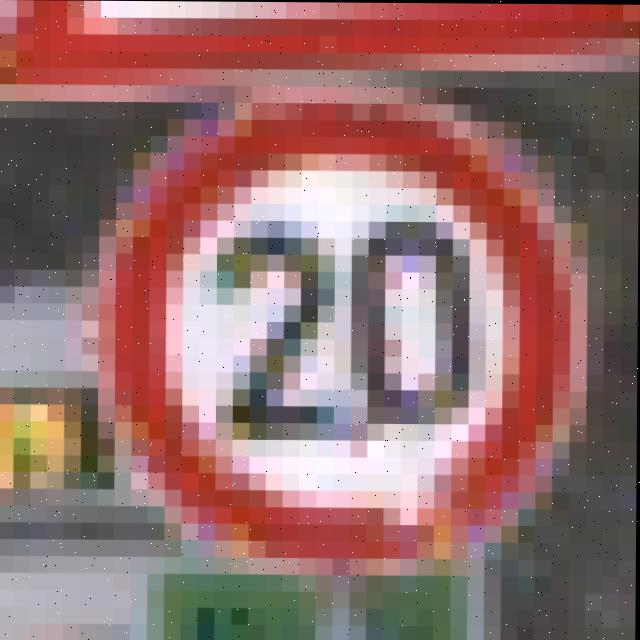speed_limit_20: (88, 87, 591, 580)
